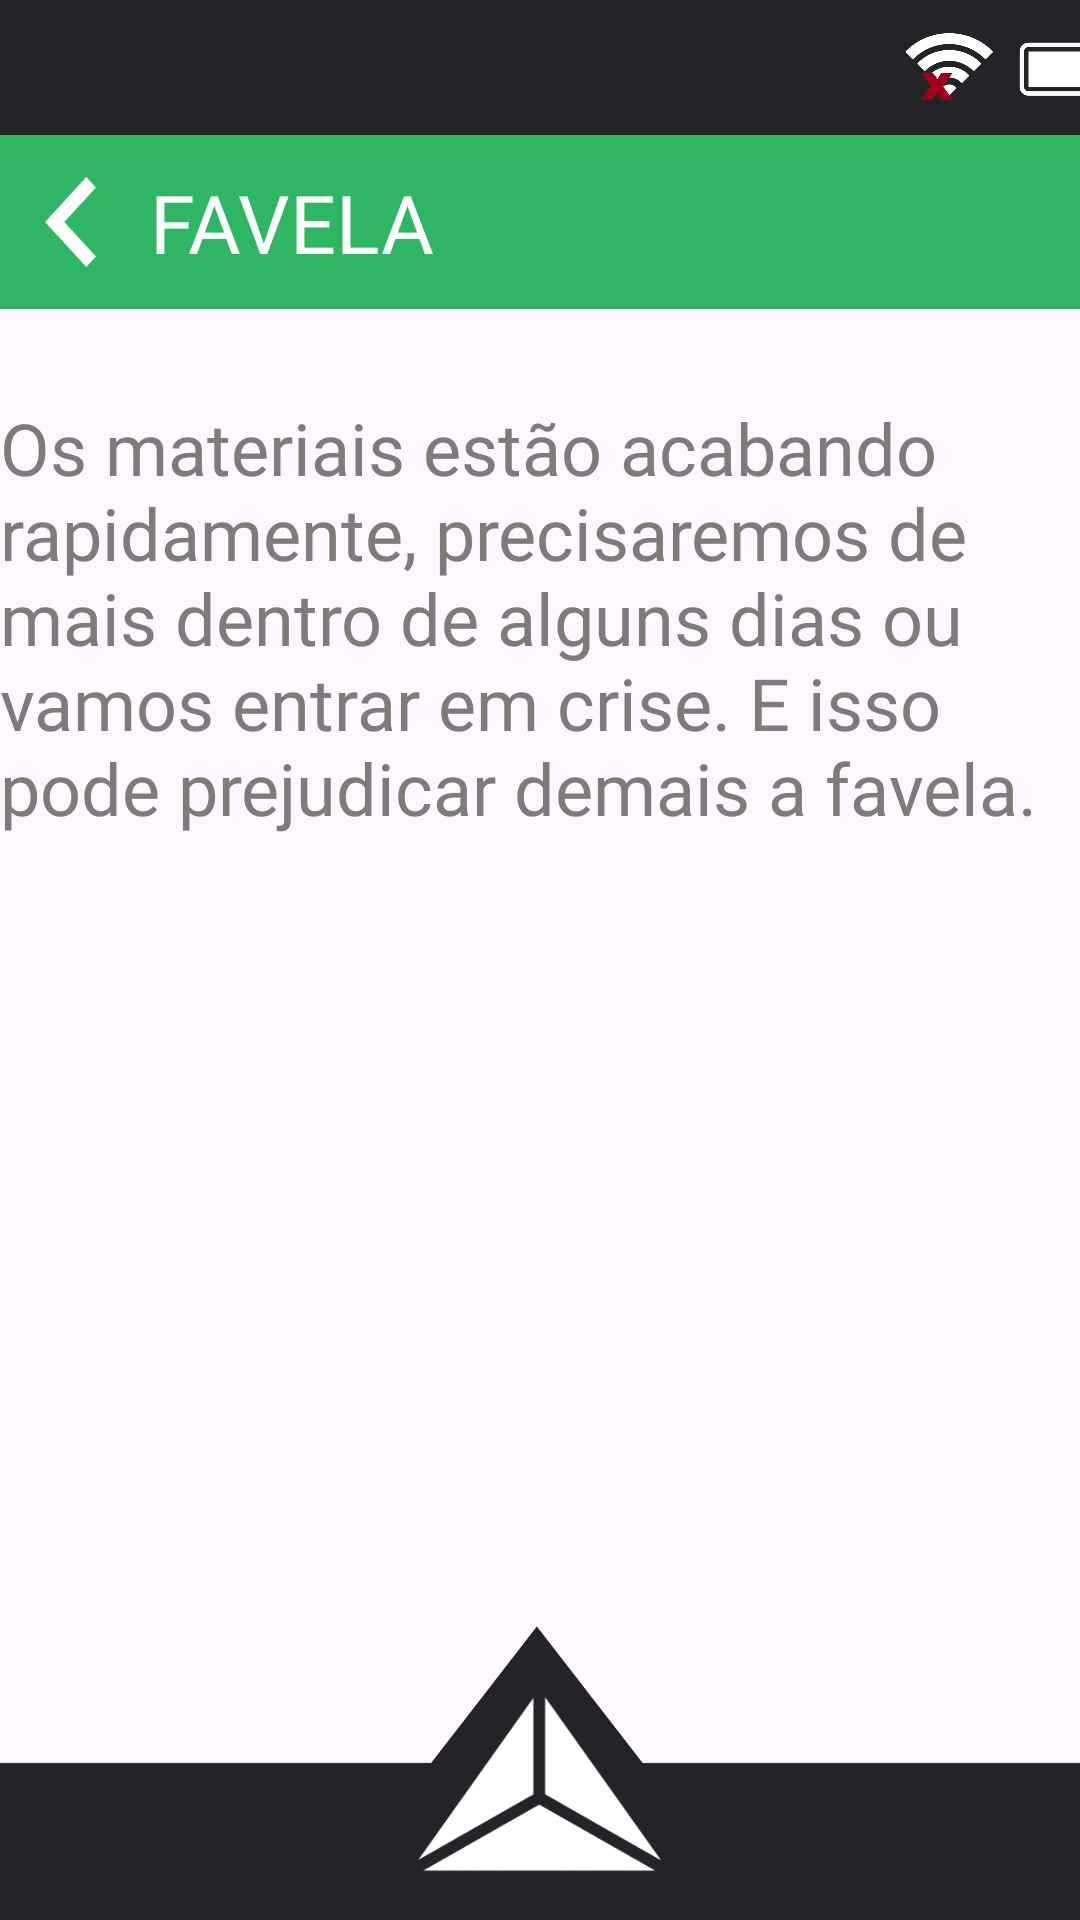

Screen size 1080px x 1920px. Icon name, then its box in pixels as (x1, y1, x2, y2):
btnvoltaremail: (45, 177, 96, 267)
